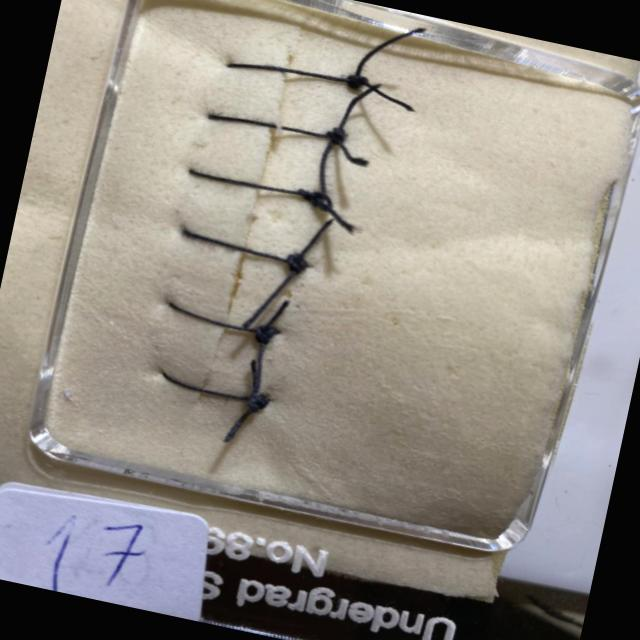knot: (298, 190, 332, 212), (255, 326, 278, 345), (286, 255, 307, 273), (248, 395, 268, 412), (345, 76, 367, 89), (327, 128, 344, 144)
leftover: (353, 26, 428, 83), (241, 260, 296, 329), (332, 81, 383, 139), (290, 216, 335, 265), (220, 396, 263, 443), (358, 79, 416, 113), (313, 194, 354, 233), (332, 134, 369, 165), (317, 139, 334, 200), (261, 299, 289, 333), (253, 329, 267, 396), (249, 357, 258, 400)
stitch: (185, 167, 331, 201), (184, 231, 311, 268), (165, 301, 281, 335), (205, 114, 345, 141), (159, 371, 272, 402), (222, 63, 369, 84)
wound: (194, 50, 299, 405)
